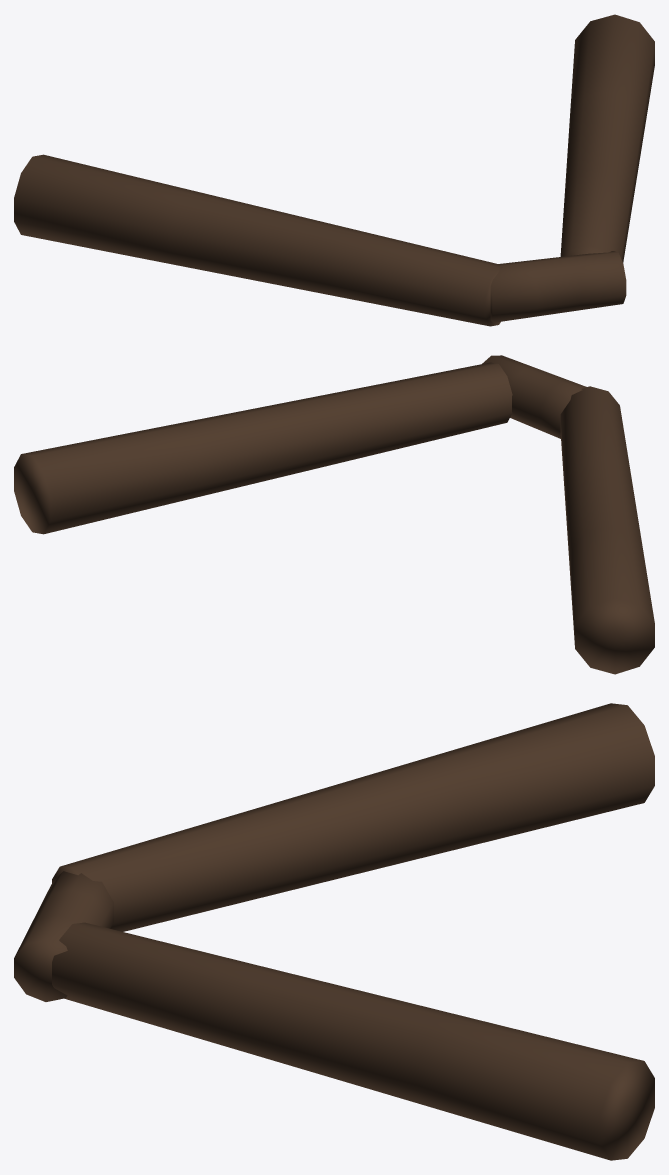
Rendered from FOREST_ROOT_ARCH.obj.
3 views of the same model, one above another, from view 1: azimuth 30°, elevation 25°; view 2: azimuth 150°, elevation 25°; view 3: azimuth 270°, elevation 25° (orthographic). The views are drawn at different scales.
Visible parts, largest first — view 1: arch_l, arch_r, arch_top; view 2: arch_r, arch_l, arch_top; view 3: arch_r, arch_l, arch_top.
Boxes of the visible parts, box(x1,y1,x2,y2) form: arch_l: box(14, 154, 502, 326); arch_r: box(560, 14, 654, 262); arch_top: box(490, 251, 626, 322); arch_r: box(14, 362, 512, 534); arch_l: box(560, 386, 654, 674); arch_top: box(482, 355, 586, 438); arch_r: box(52, 922, 654, 1160); arch_l: box(52, 703, 654, 931); arch_top: box(14, 871, 113, 1001).
Bounding box in the file's own units: 3.52 × 0.4 × 2.42.
